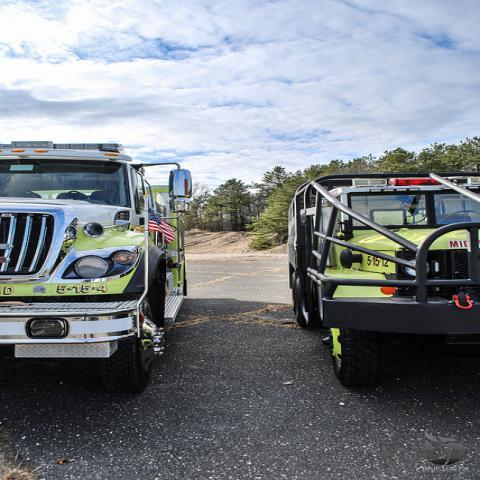truck: (0, 140, 192, 394), (287, 172, 479, 388)
